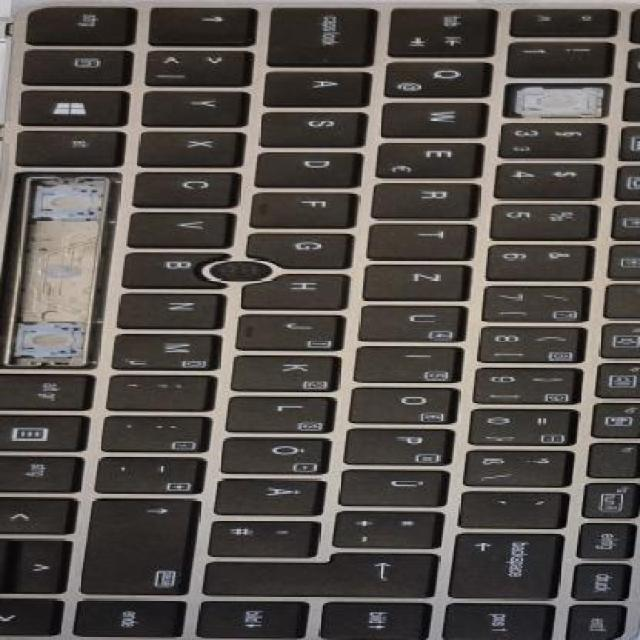Keyboard problems: (0, 163, 120, 374), (498, 71, 616, 128)
